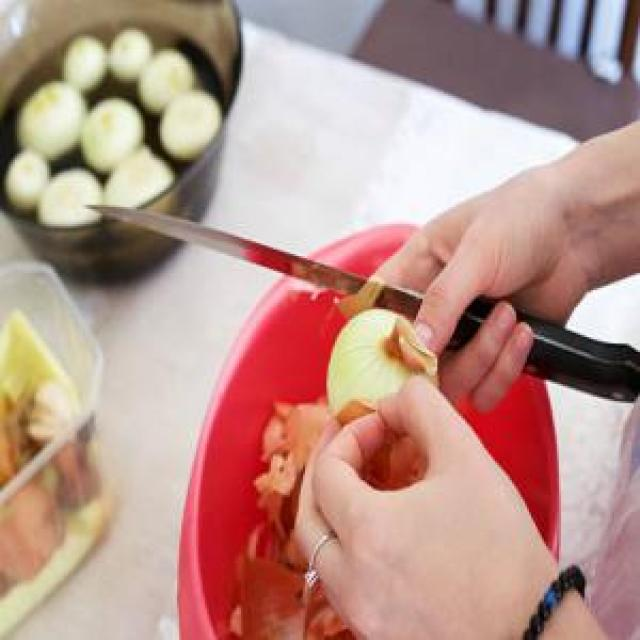knife: (81, 194, 638, 410)
